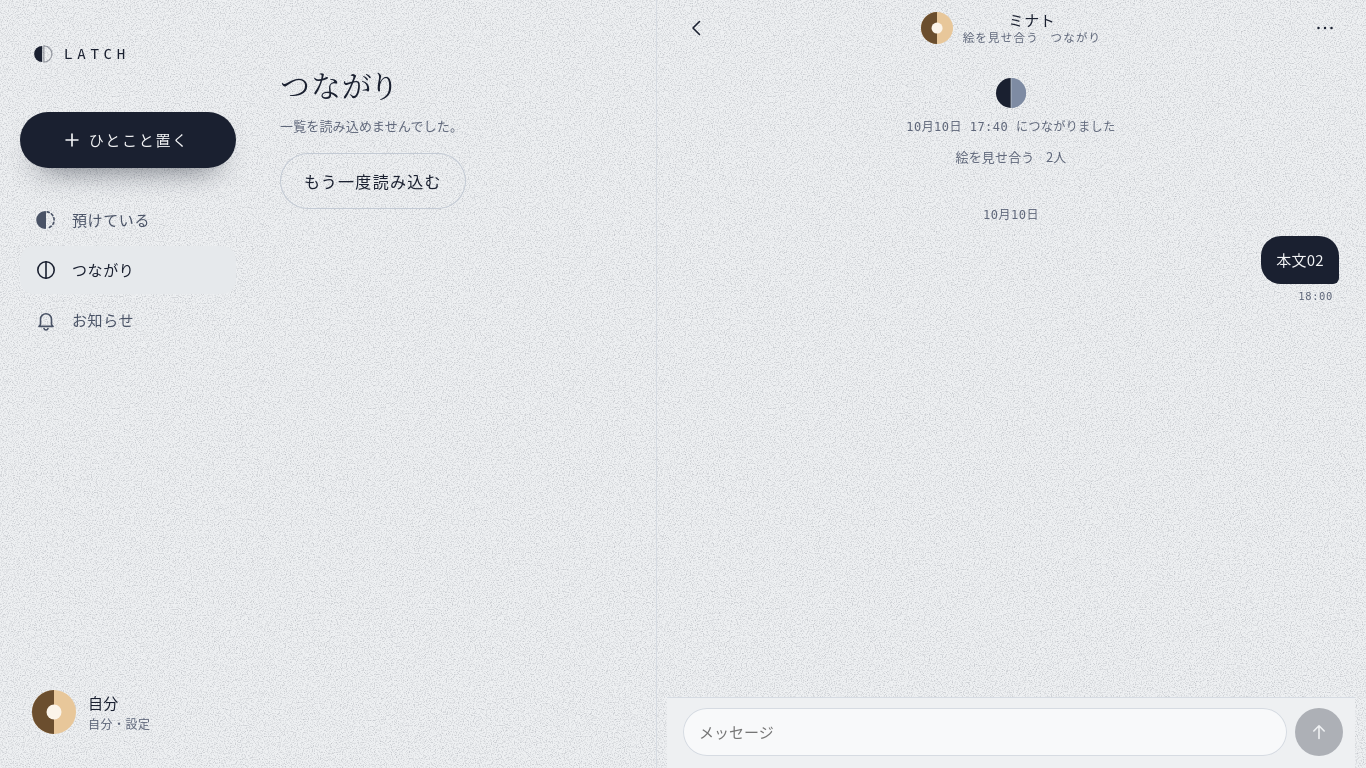
Test: Chat の送信・受信・既読 › 失敗時は「送信できませんでした」が出る
This screenshot has width=1366, height=768.
Check: the text "本文02" is shown, box [1261,236,1339,284]
In the text box labelled "メッセージ": point(985, 732) [683,708,1287,756], type "だめ"
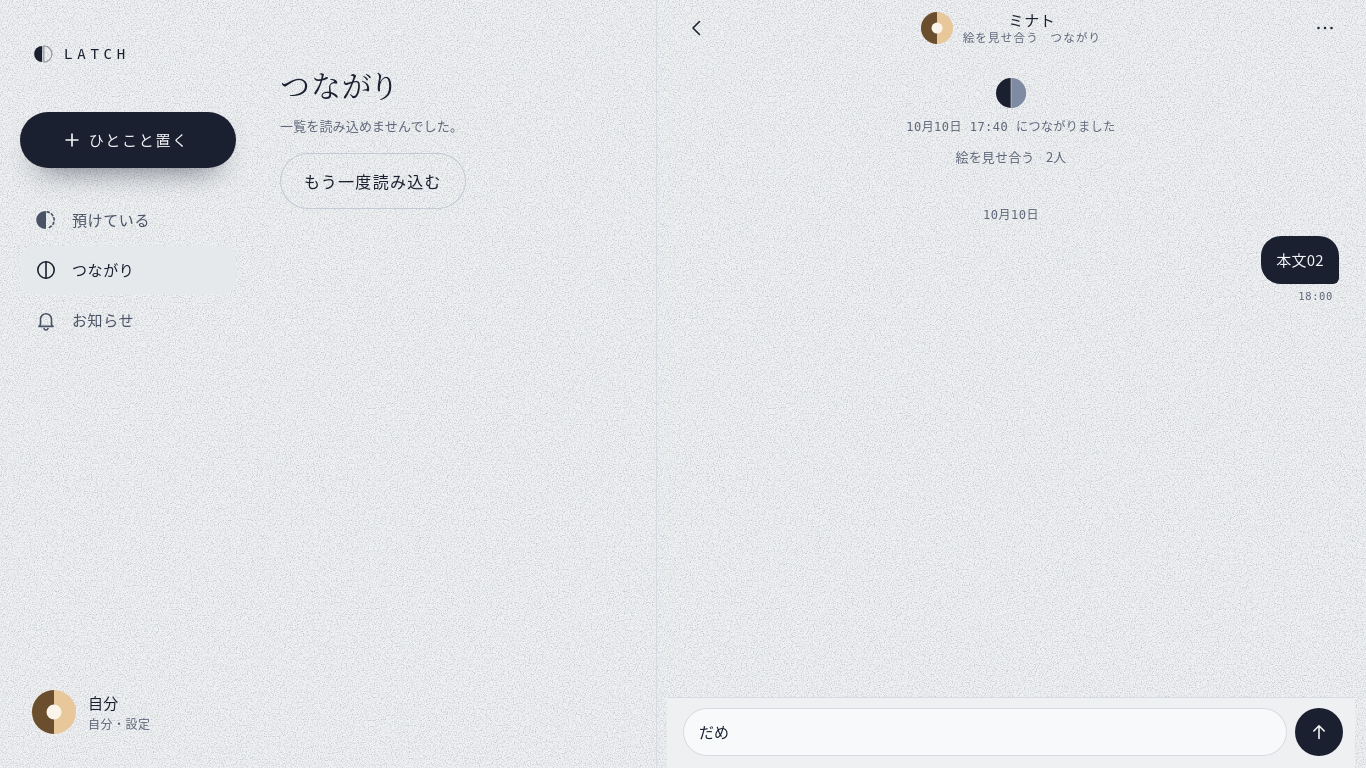
Click the button named "送る": point(1319, 732) [1295,708,1343,756]
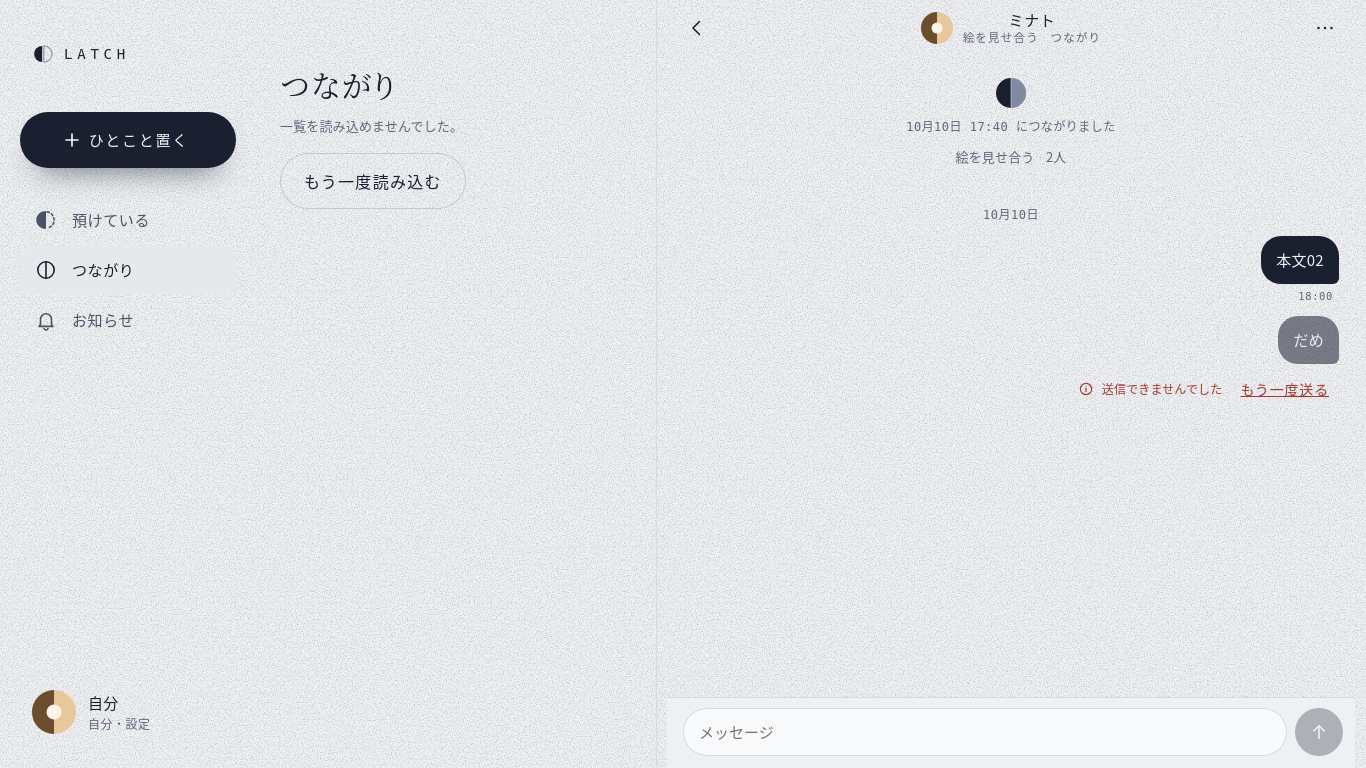
Check: the text "送信できませんでした もう一度送る" is shown, box [1078,367,1339,411]
Check: the element with class "is-failed" is shown, box [1078,316,1339,411]
